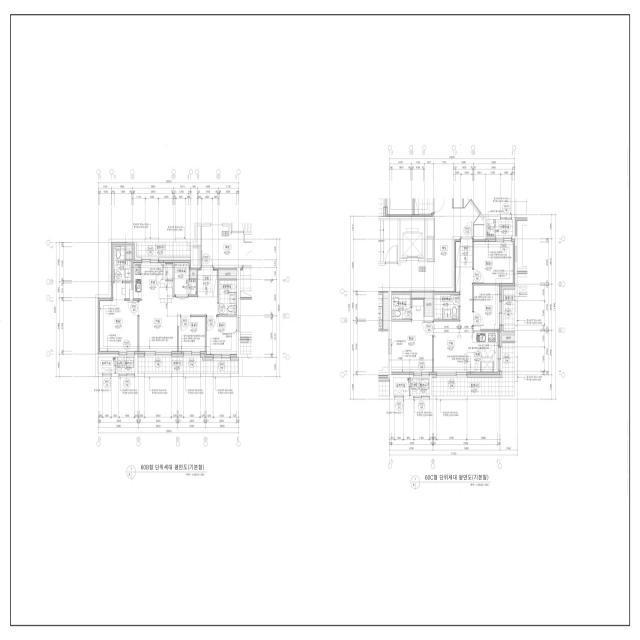space_balconi: (432, 343, 515, 396), (137, 355, 239, 373), (137, 242, 191, 259), (502, 289, 515, 332), (411, 376, 430, 396), (116, 357, 135, 373)
space_bedroom: (392, 299, 434, 375), (98, 283, 138, 354), (473, 239, 515, 286), (474, 285, 501, 332), (206, 317, 237, 357), (178, 317, 206, 357)
space_elevator: (400, 220, 425, 259)
space_elevator_hall: (378, 198, 479, 288), (193, 223, 252, 265)
space_front: (198, 267, 218, 297), (454, 239, 473, 267)
space_kitchen: (133, 260, 174, 299), (467, 331, 500, 375)
space_living_room: (138, 297, 218, 354), (434, 267, 473, 375)
space_multipurpose_space: (174, 260, 197, 295), (486, 220, 513, 238)
space_other: (412, 291, 433, 317), (474, 216, 484, 237), (218, 268, 237, 278), (453, 198, 462, 208), (190, 268, 198, 278), (126, 246, 132, 259), (502, 335, 515, 341), (464, 199, 469, 208)
space_outdoor_room: (98, 357, 115, 374), (393, 378, 409, 396)
space_staircase: (378, 220, 398, 262)
space_toilet: (434, 294, 459, 320), (219, 280, 237, 315), (114, 246, 132, 281), (392, 294, 411, 320)
